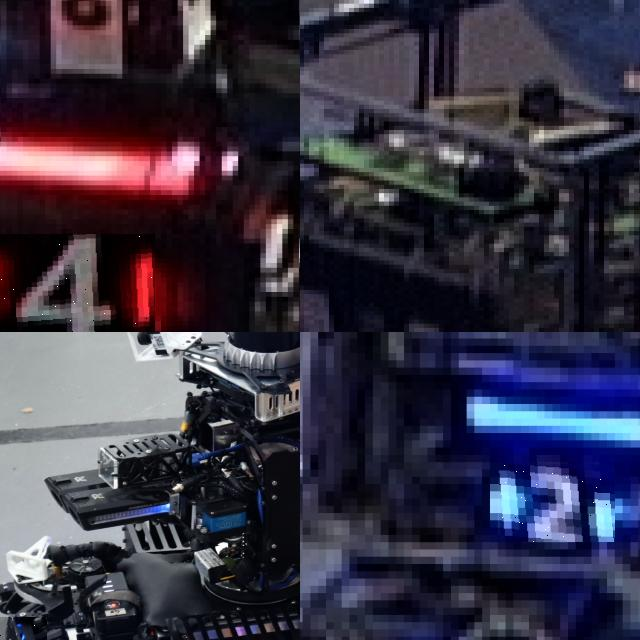B2: (490, 455, 615, 542)
R4: (0, 234, 155, 332)
